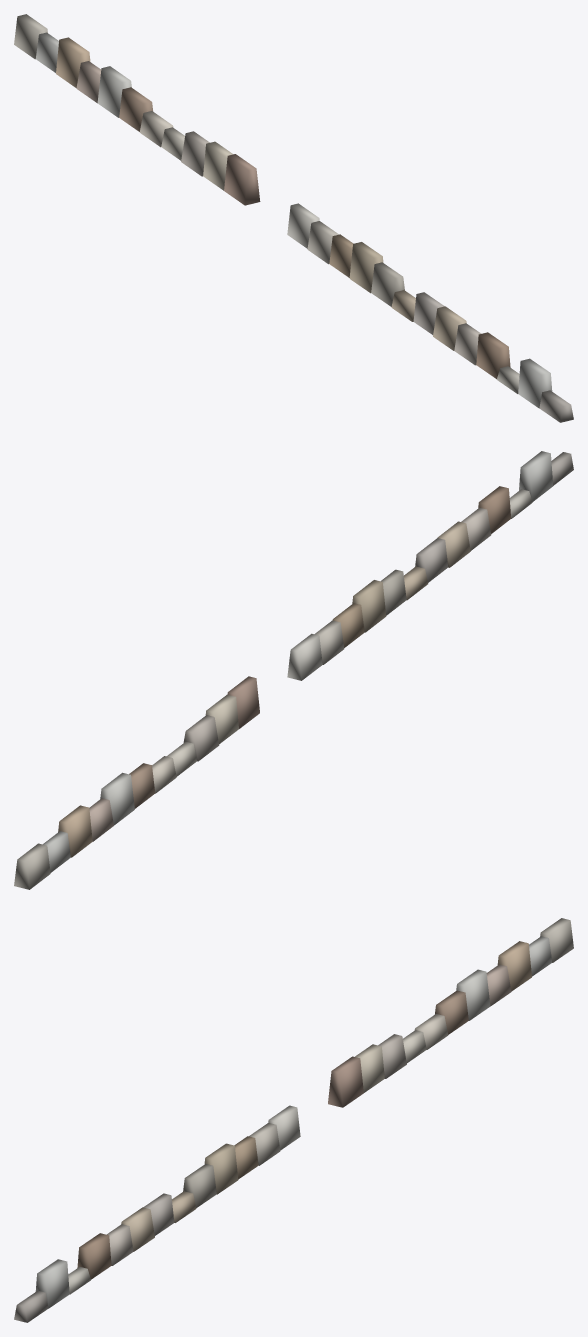
File: farm_25_32_collision.glb
3 views of the same model, one above another, from view 1: azimuth 30°, elevation 25°; view 2: azimuth 150°, elevation 25°; view 3: azimuth 330°, elevation 25° (orthographic).
Visible parts, largest first — view 1: geometry_0; view 2: geometry_0; view 3: geometry_0.
Part boxes in pixels (x1,y1,x2,y2): geometry_0: (14,14,573,422); geometry_0: (14,451,573,889); geometry_0: (14,918,573,1322).
Size of the model in its own units: 0.7861 by 2.23 by 40.75.
